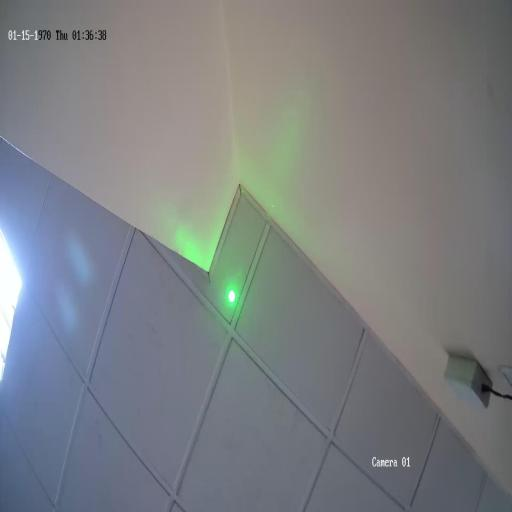laser: (226, 285, 238, 308)
